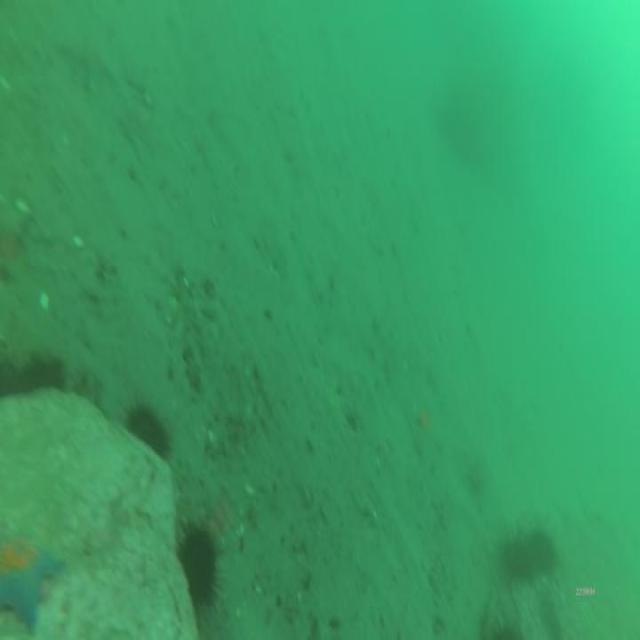echinus: (180, 530, 217, 606), (127, 401, 167, 455), (524, 528, 554, 574), (504, 541, 529, 583)
starfish: (2, 531, 63, 630)
